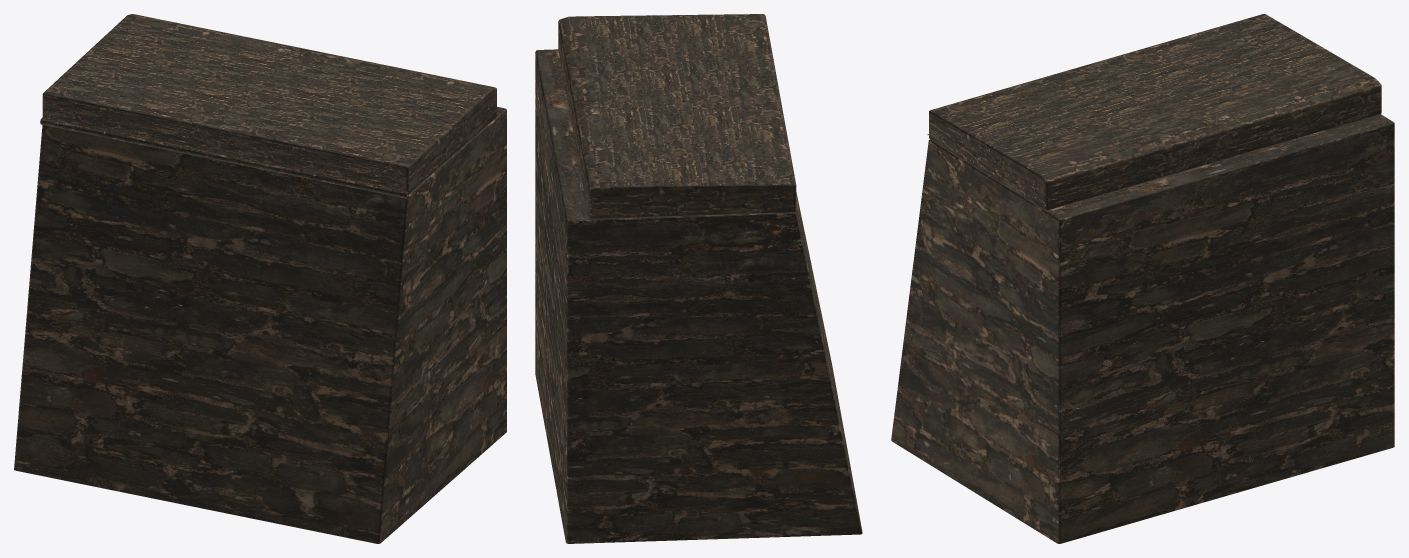
The model's file is block_12.glb.
The picture shows the model from 3 angles, left to right: view 1: azimuth 30°, elevation 25°; view 2: azimuth 150°, elevation 25°; view 3: azimuth 270°, elevation 25°; orthographic projection.
Visible parts, largest first — view 1: block_12; view 2: block_12; view 3: block_12.
Boxes of the visible parts, bbox=[...] form: block_12: bbox=[14, 14, 506, 543]; block_12: bbox=[535, 14, 862, 543]; block_12: bbox=[891, 14, 1394, 543].
Bounding box in the file's own units: 2.26 × 1.87 × 2.39.
Materials: 2 (2 with a texture image).
